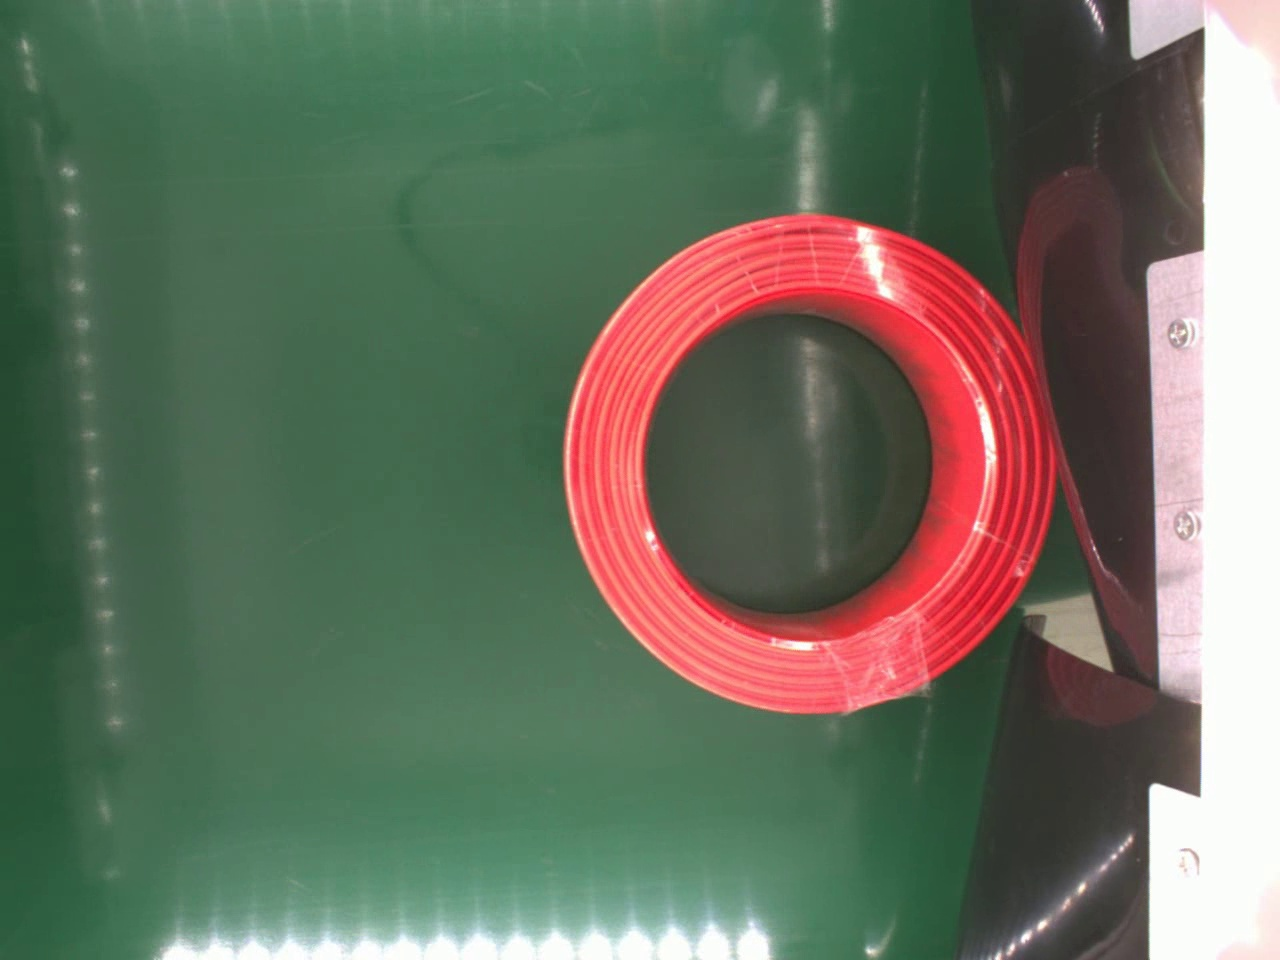red: (558, 208, 1055, 717)
